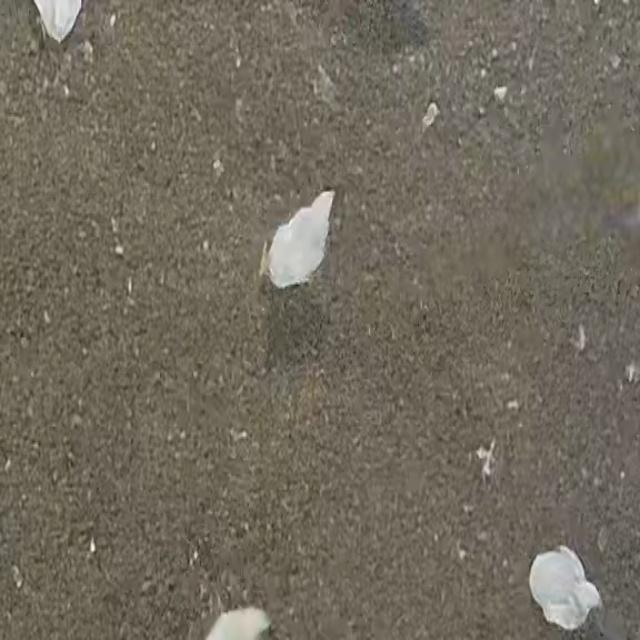chicken: (254, 184, 340, 287), (522, 542, 607, 630)
